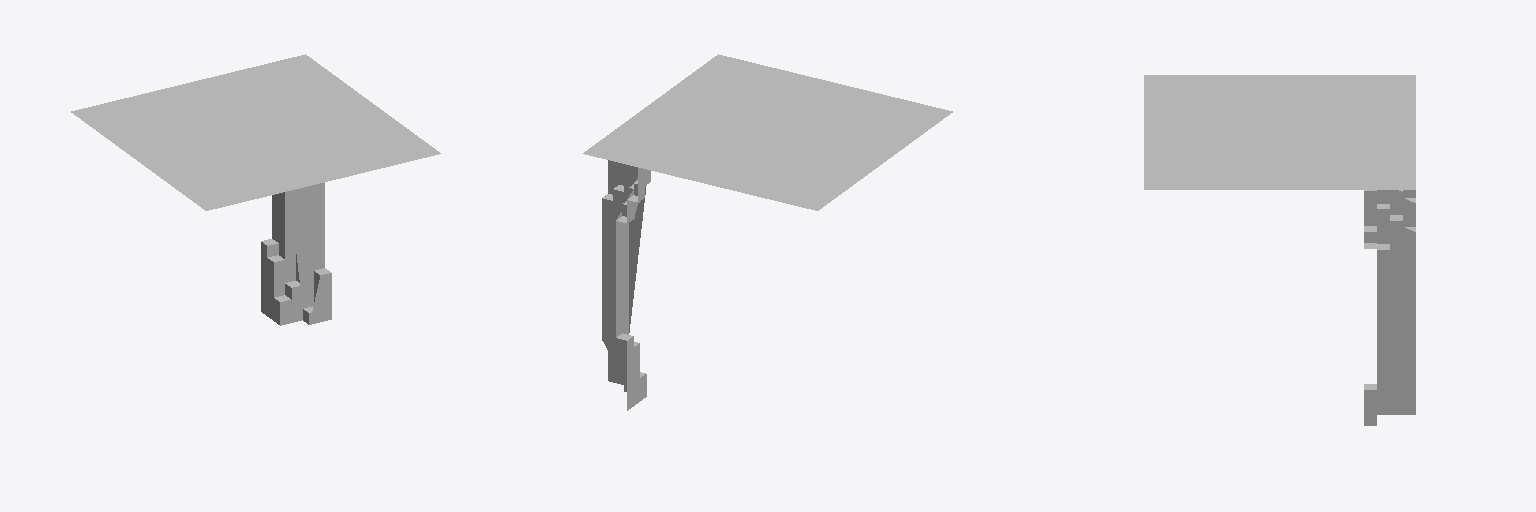
File: Outher_Corner.obj
3 views of the same model, side by side, from view 1: azimuth 30°, elevation 25°; view 2: azimuth 150°, elevation 25°; view 3: azimuth 270°, elevation 25° (orthographic).
Visible parts, largest first — view 1: Cube.090; view 2: Cube.090; view 3: Cube.090.
Boxes of the visible parts, x1=… form: Cube.090: x1=71, y1=54, x2=440, y2=325; Cube.090: x1=583, y1=54, x2=952, y2=410; Cube.090: x1=1144, y1=75, x2=1415, y2=425.
Size of the model in its own units: 2.1 by 2.1 by 2.1.